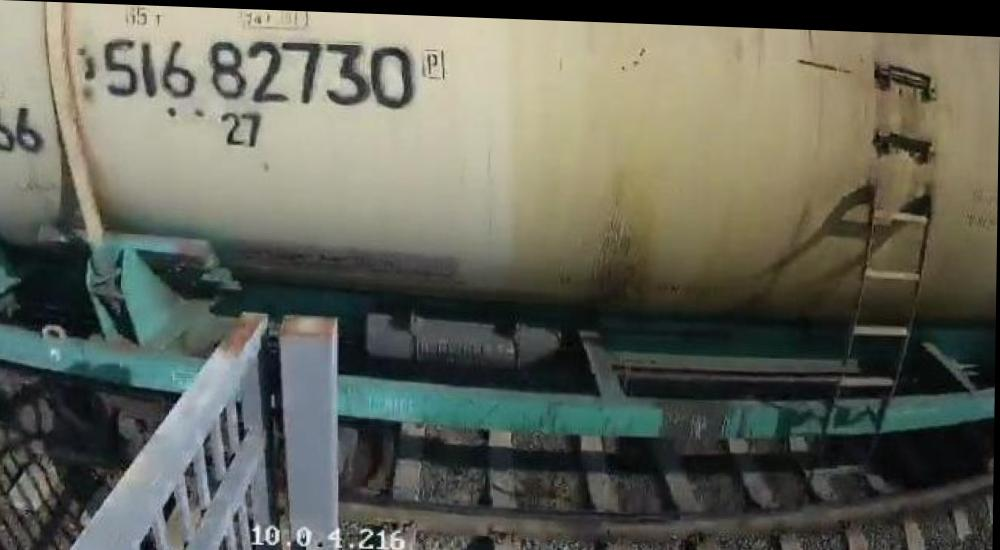Wagon-number: (97, 28, 418, 110)
